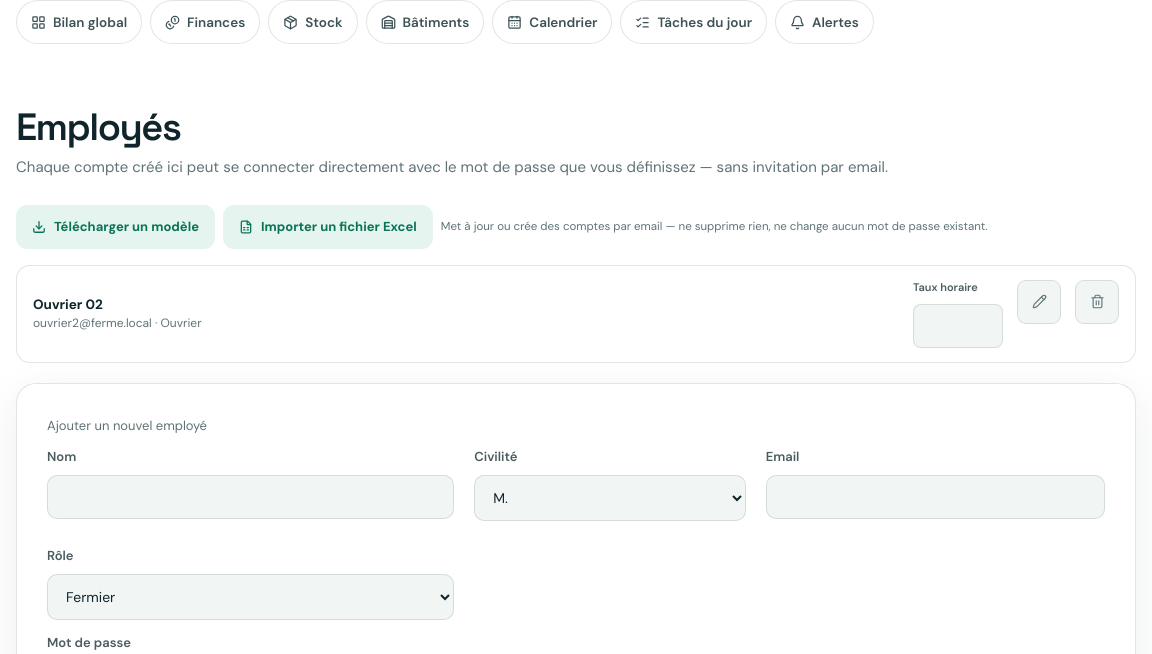
Test case: EmployeesPage — per-row actions › an unreachable server is worded as such on a row action
Type "750" into the number field labelled "Taux horaire" at (958, 326), box [913, 304, 1003, 348]
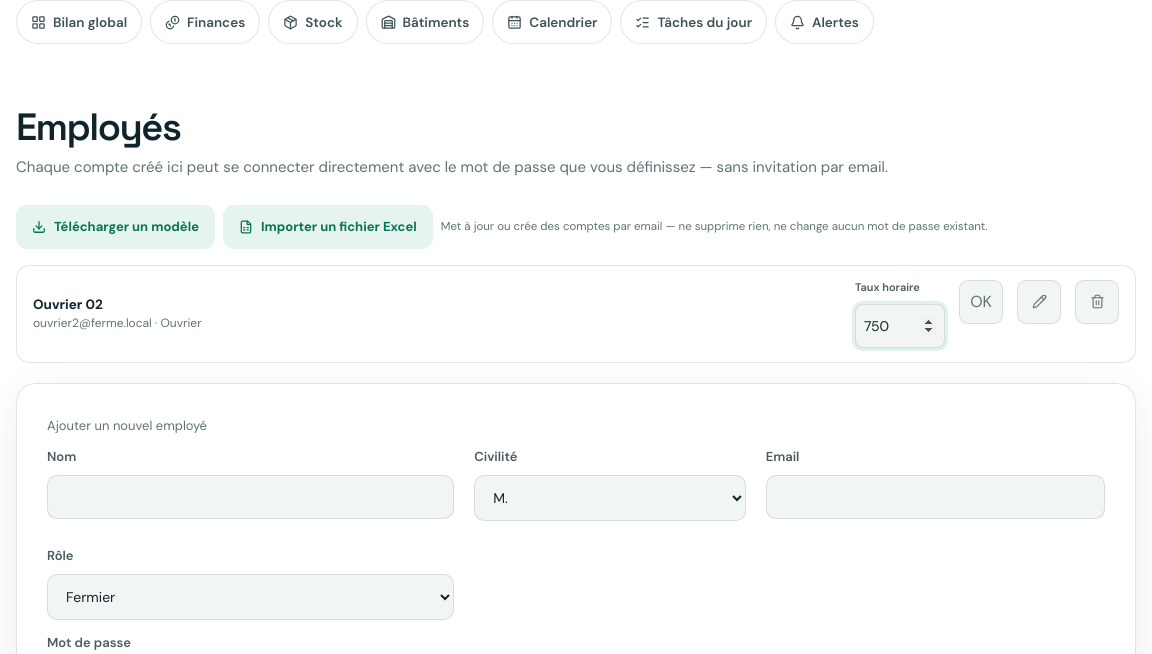
Click the button titled "Enregistrer le taux" at (981, 302), box [959, 280, 1003, 324]
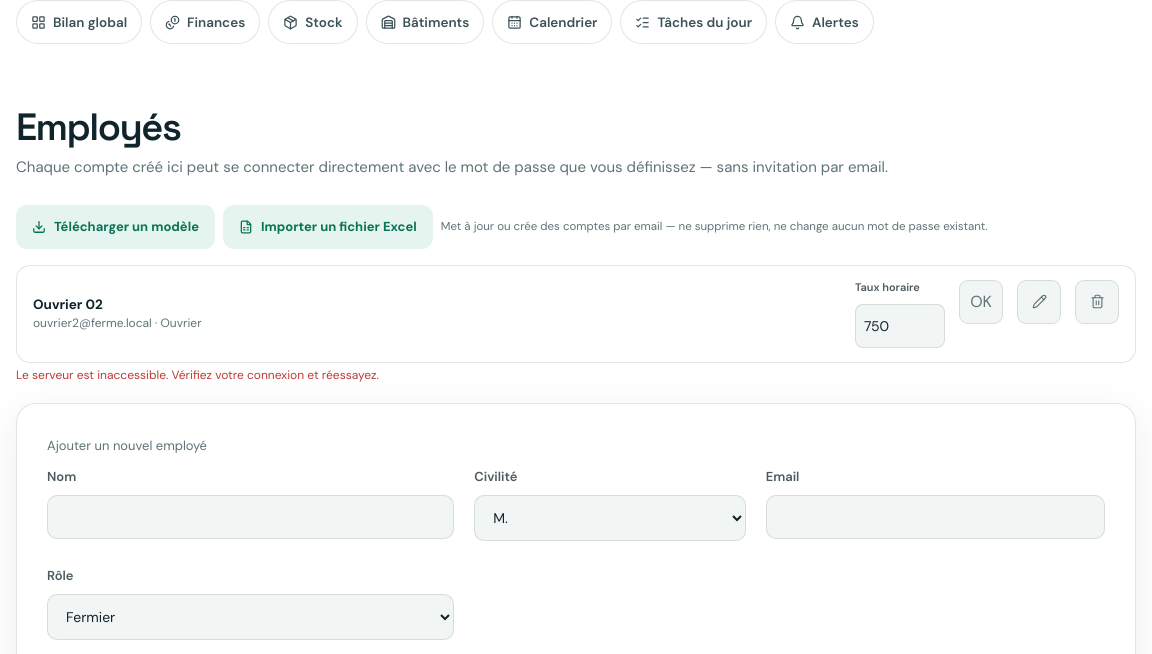
Result: the message shows "Le serveur est inaccessible." at [16, 367, 379, 383]
